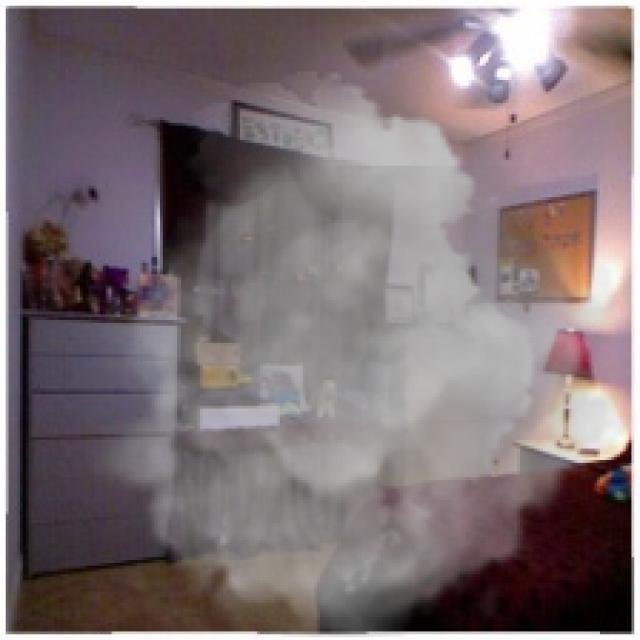Smoke: (85, 72, 638, 638)
